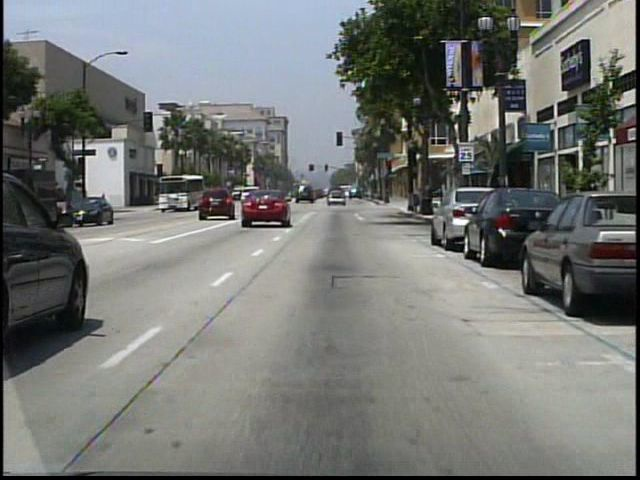person: (101, 192, 108, 216)
